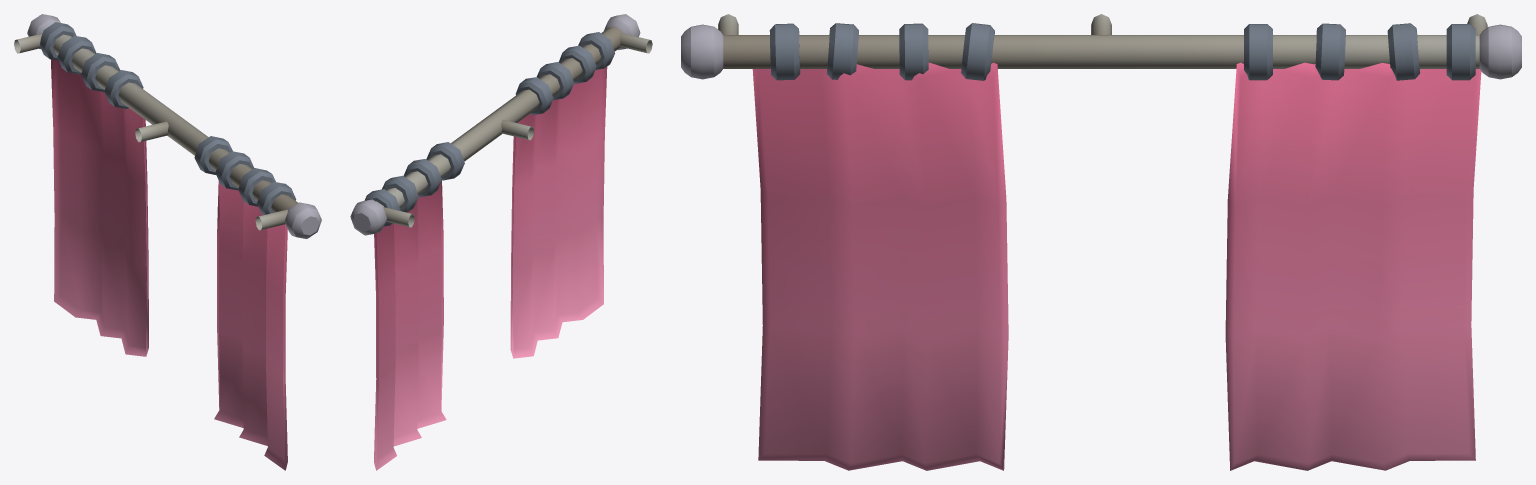
The model's file is Curtains_Long_2_B_K.glb.
The picture shows the model from 3 angles, left to right: view 1: azimuth 30°, elevation 25°; view 2: azimuth 150°, elevation 25°; view 3: azimuth 270°, elevation 25°; orthographic projection. The views are drawn at different scales.
Parts seen in each view (by area): view 1: Curtains_Long_2_B_K; view 2: Curtains_Long_2_B_K; view 3: Curtains_Long_2_B_K.
Part boxes in pixels (box(x1,y1,x2,y2)): Curtains_Long_2_B_K: box(14, 14, 321, 470); Curtains_Long_2_B_K: box(350, 14, 652, 470); Curtains_Long_2_B_K: box(681, 14, 1521, 470).
Bounding box in the file's own units: 0.2288 × 1.16 × 2.02.
Materials: 2 (2 with a texture image).
